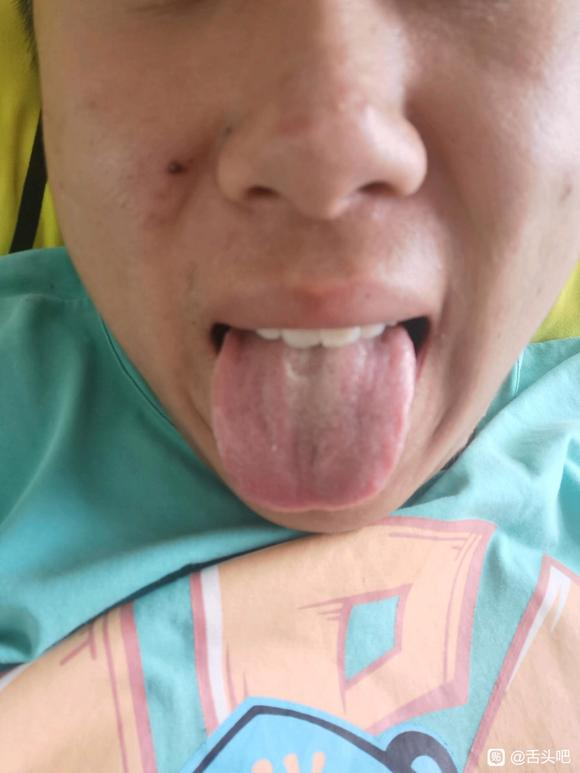baitaishe: (213, 321, 415, 513)
botaishe: (276, 338, 328, 387)
